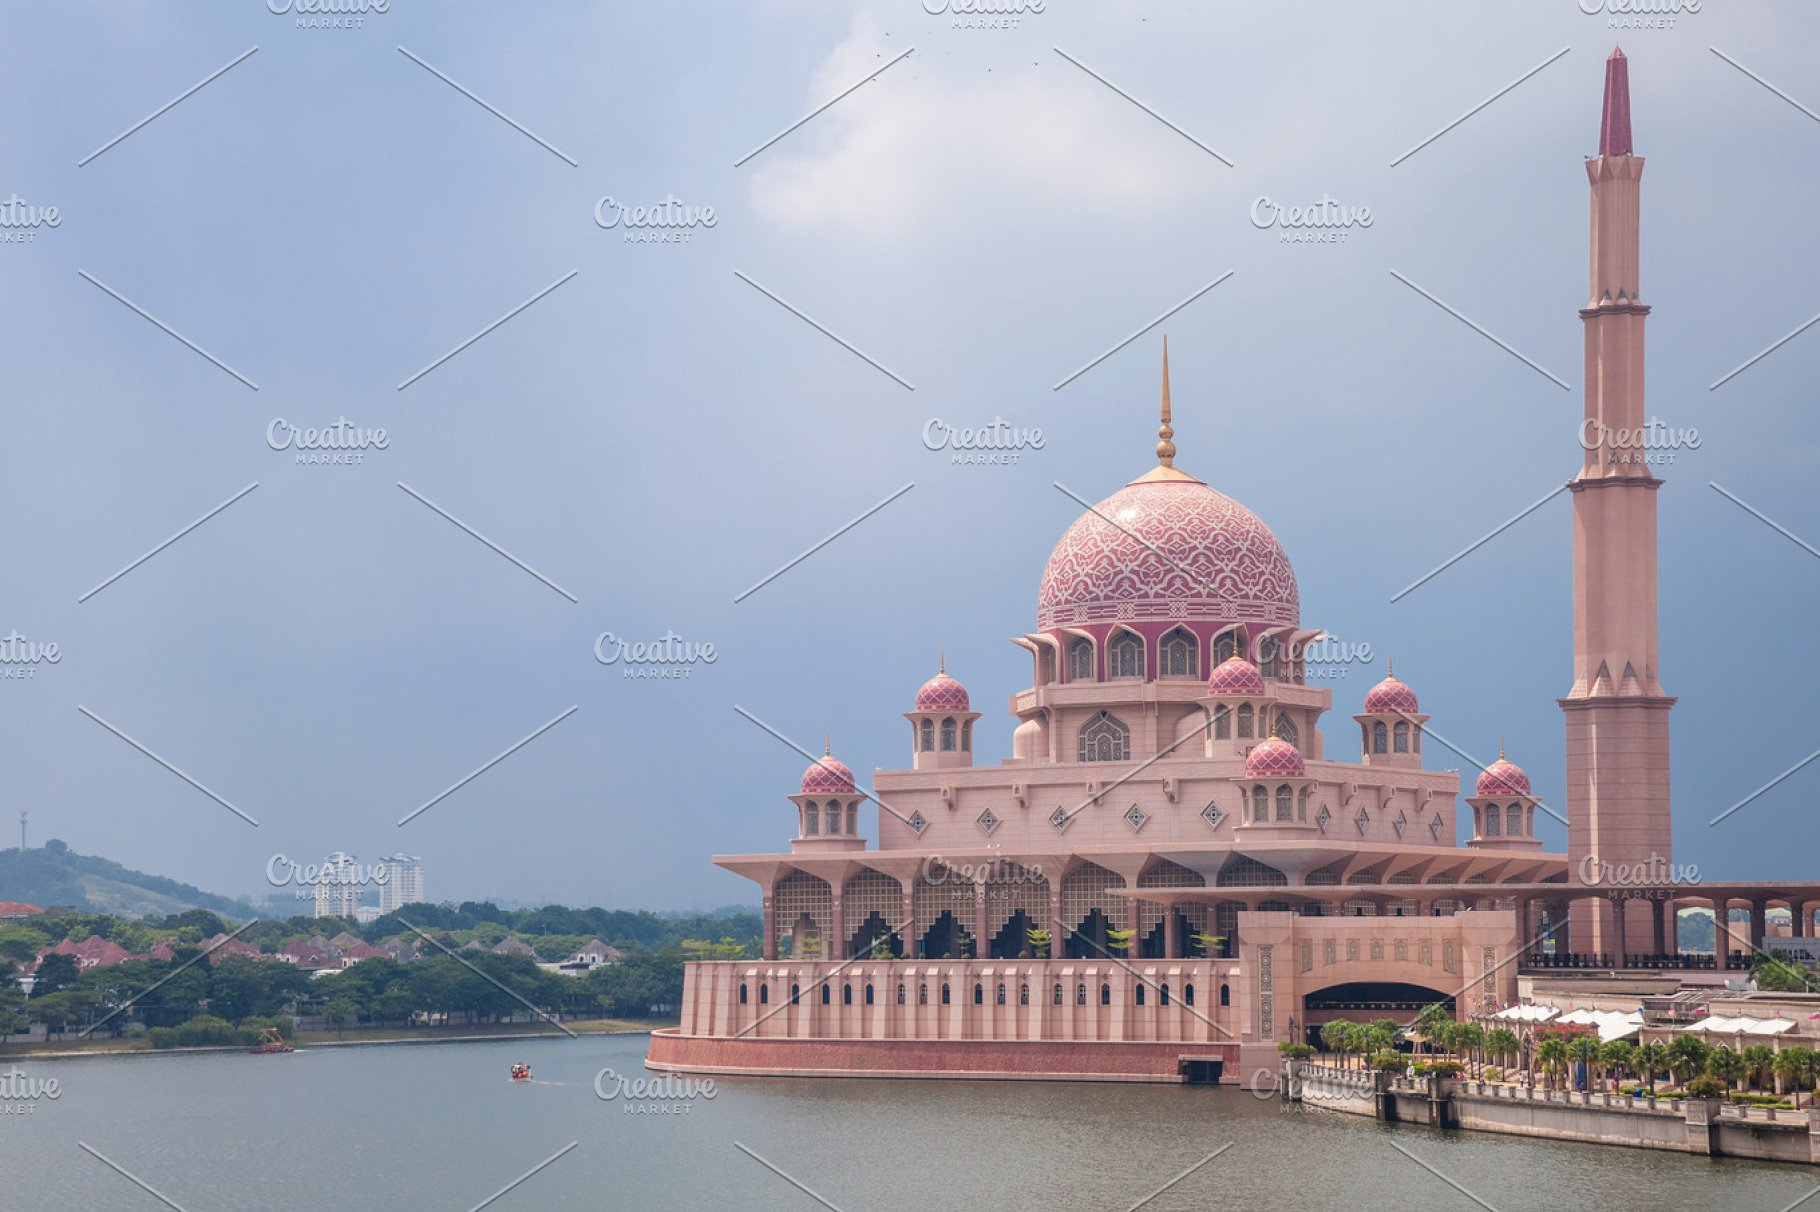Mosque: (799, 51, 1685, 1082)
